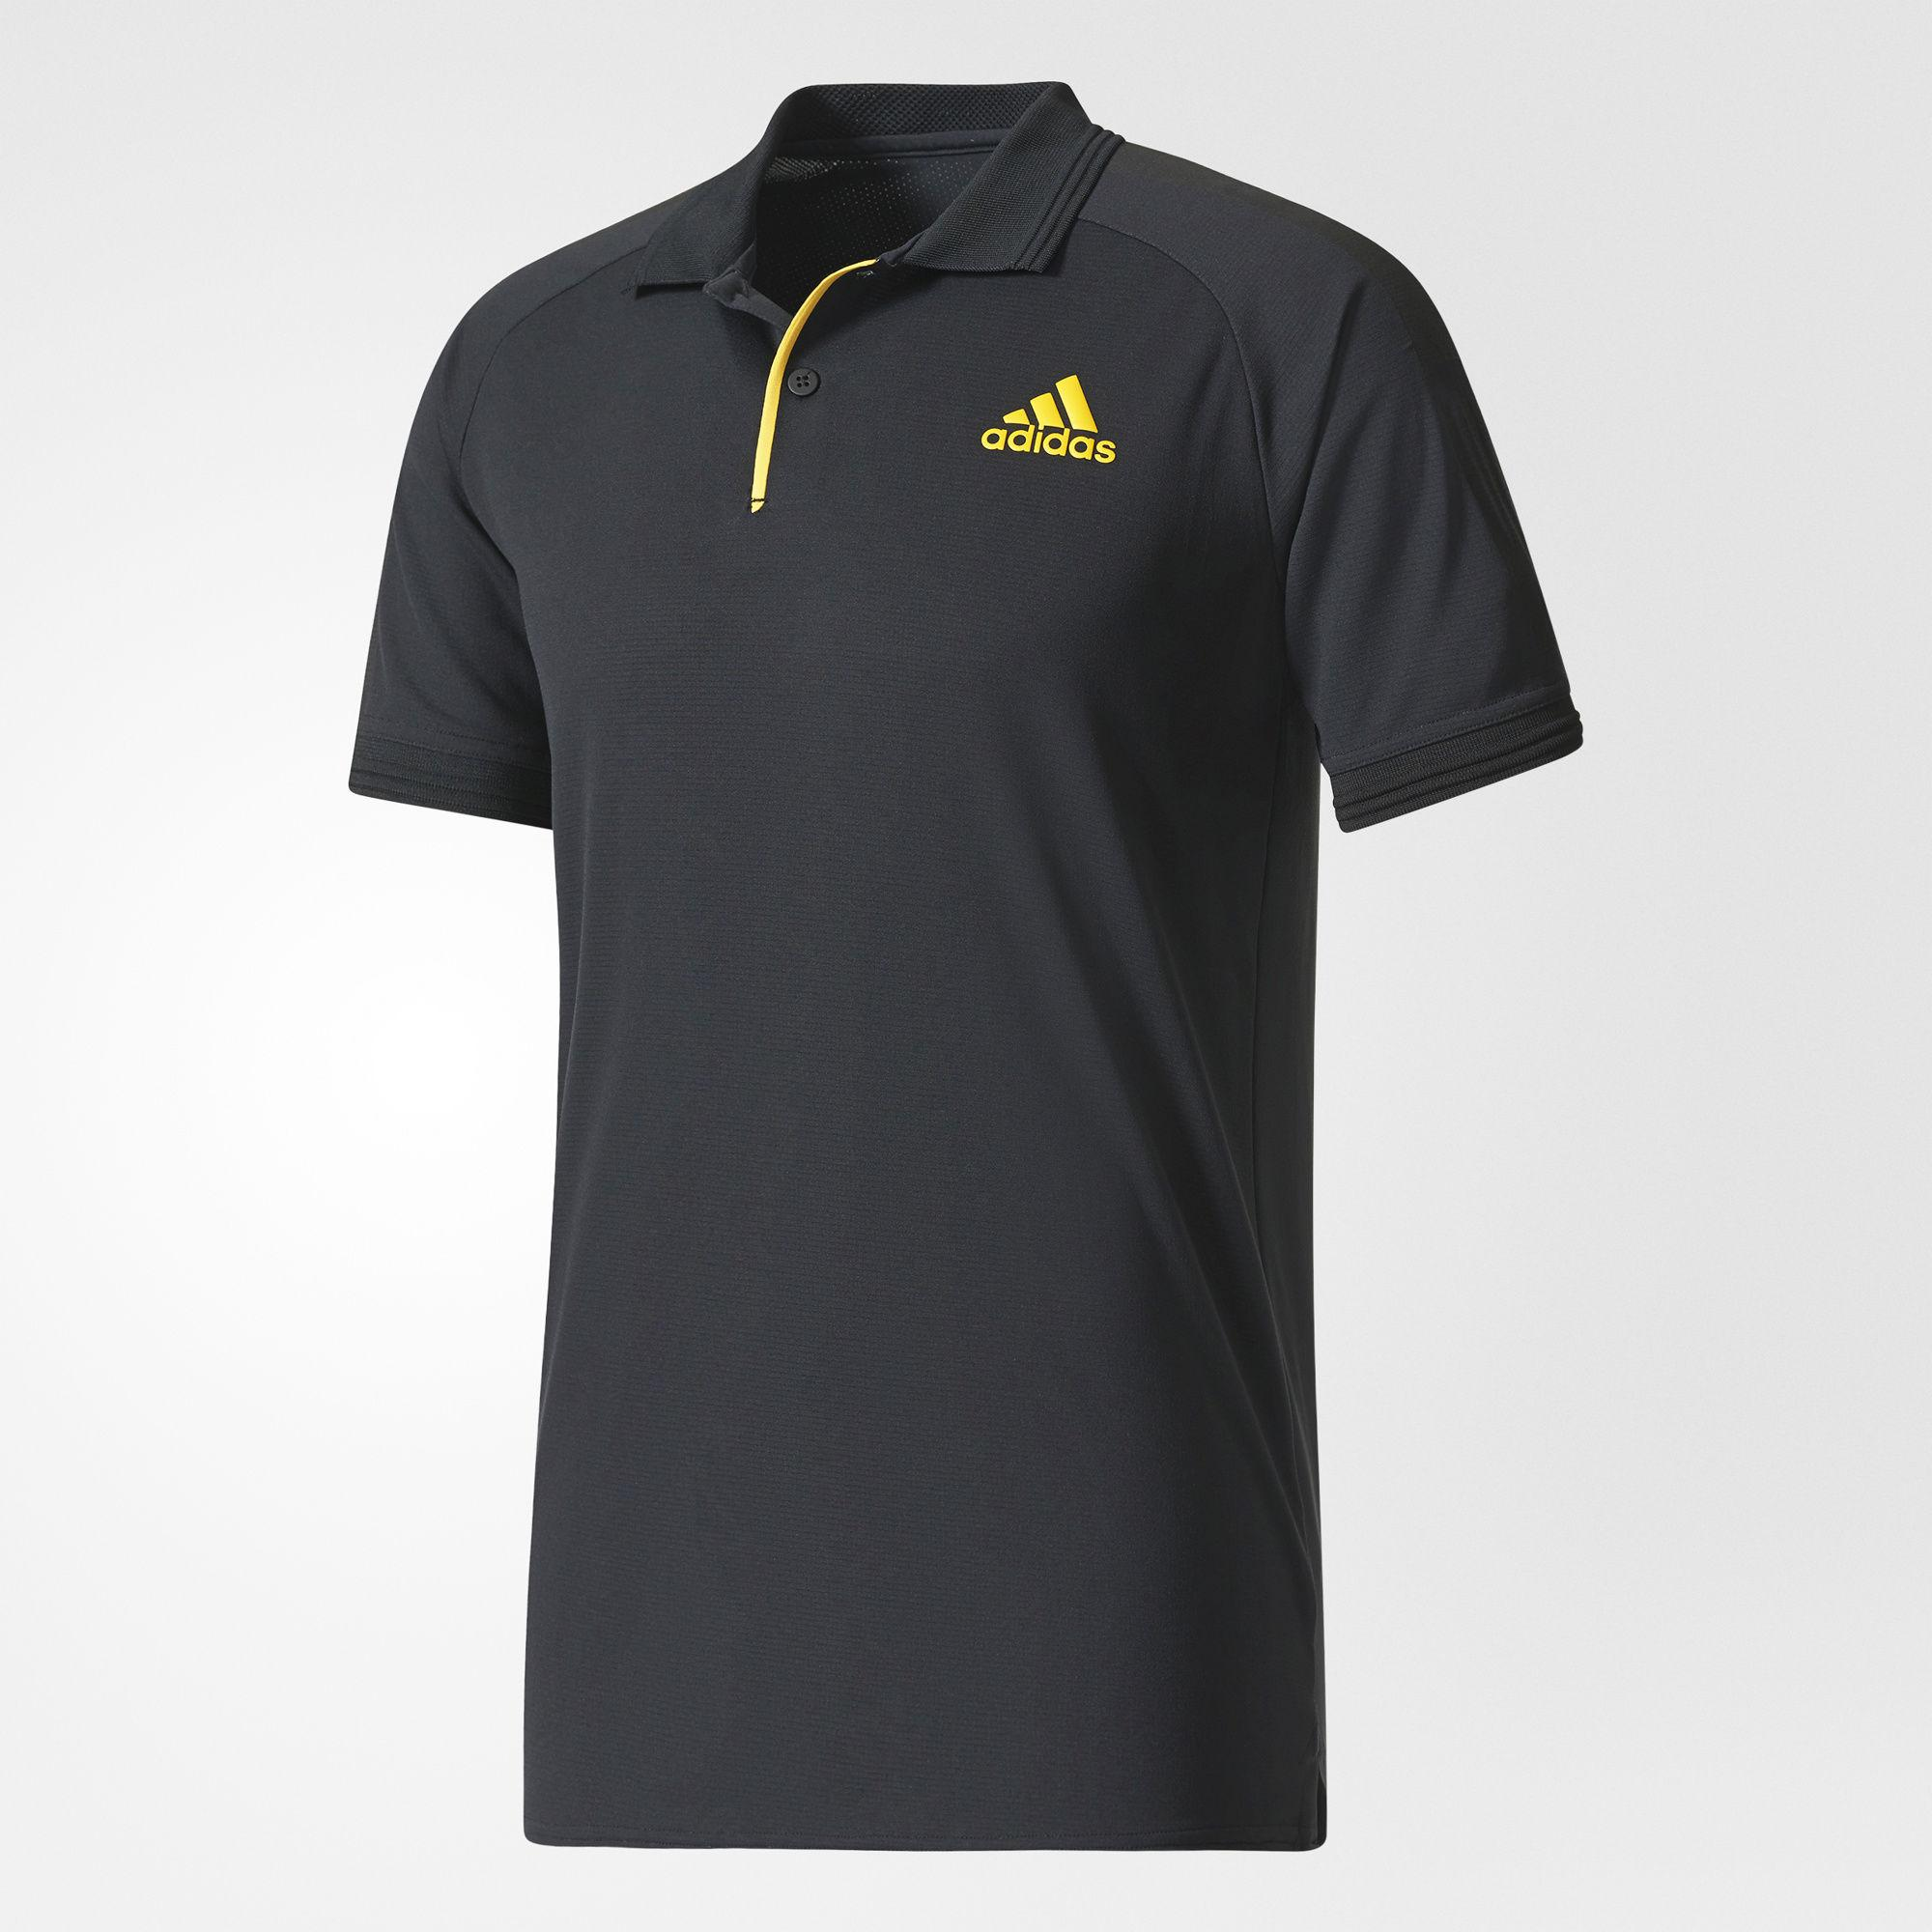teeshirt: (257, 64, 1631, 1897)
